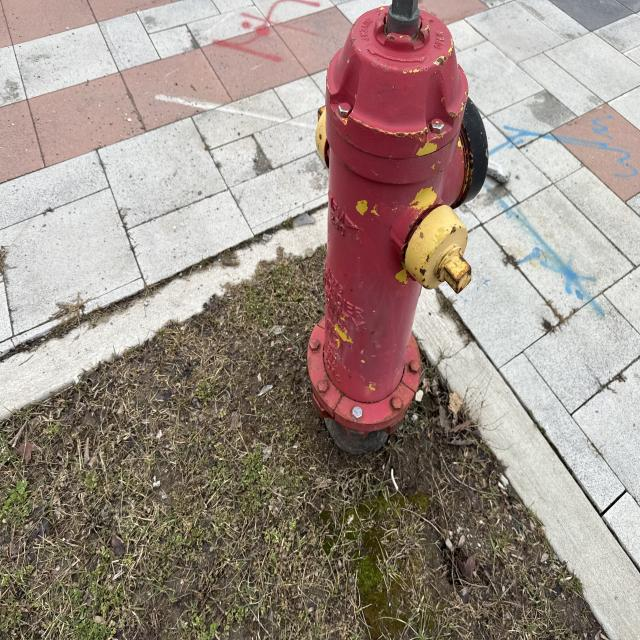Fire hydrant: (304, 0, 490, 439)
